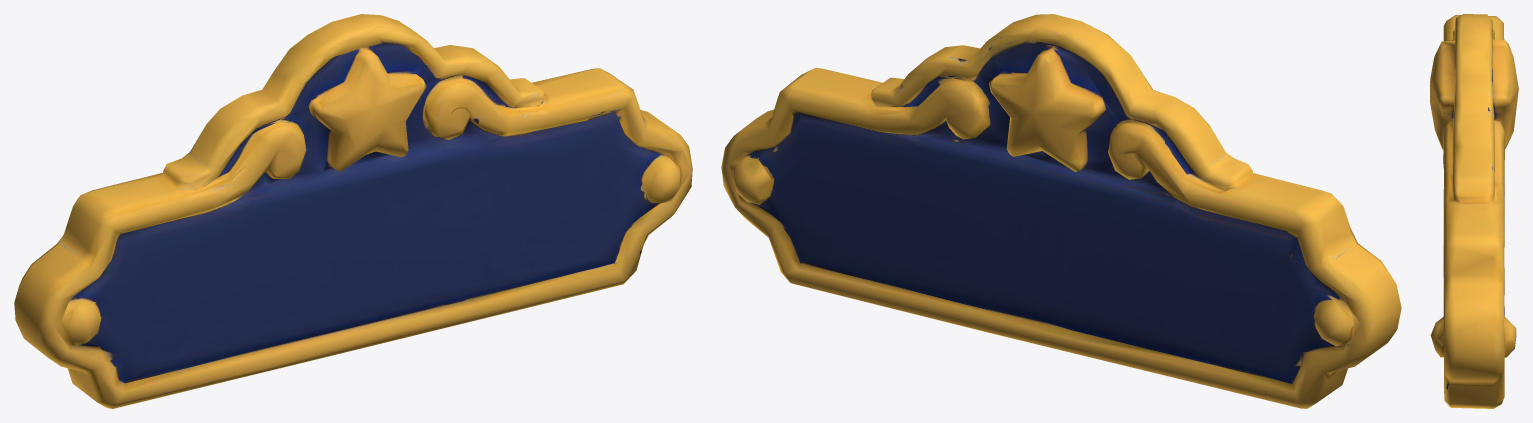
The picture shows the model from 3 angles, left to right: view 1: azimuth 30°, elevation 25°; view 2: azimuth 150°, elevation 25°; view 3: azimuth 270°, elevation 25°; orthographic projection. The views are drawn at different scales.
Parts seen in each view (by area): view 1: plate-navy; view 2: plate-navy; view 3: plate-navy.
Part boxes in pixels (x1,y1,x2,y2): plate-navy: (14,14,692,408); plate-navy: (721,14,1401,408); plate-navy: (1430,14,1518,408).
Size of the model in its own units: 1.2 by 0.5524 by 0.161.
Materials: 1 (1 with a texture image).
